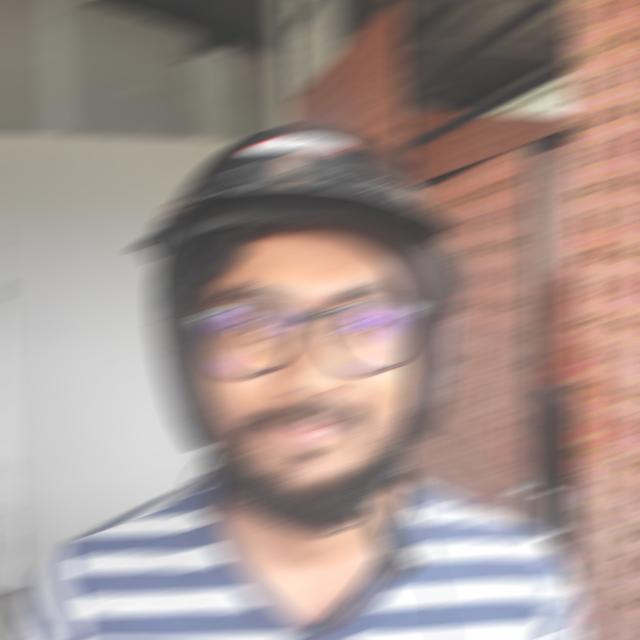With Helmet: (130, 126, 465, 500)
